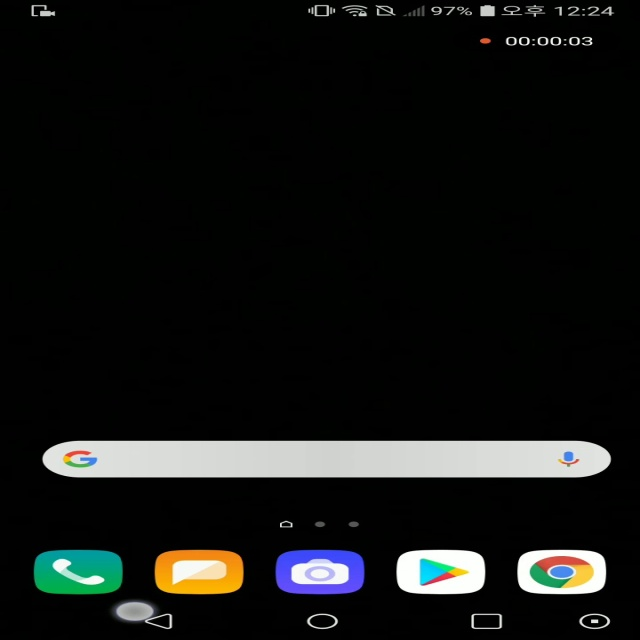Cursor: (114, 602, 159, 624)
